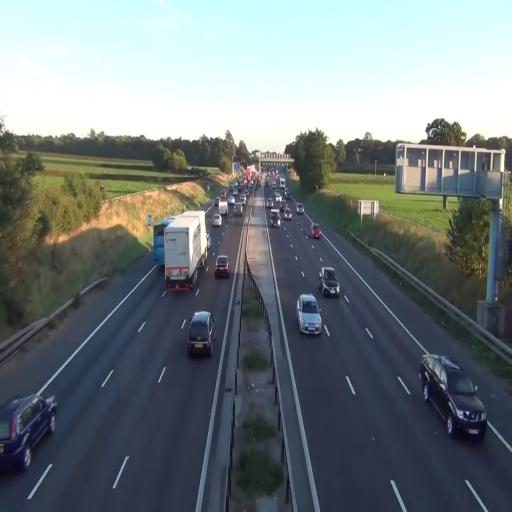vehicle: (420, 352, 487, 440), (0, 394, 58, 472), (164, 212, 206, 292), (186, 310, 214, 357), (297, 292, 323, 335), (320, 267, 340, 297), (214, 254, 230, 279), (268, 207, 281, 227), (311, 223, 320, 238)
